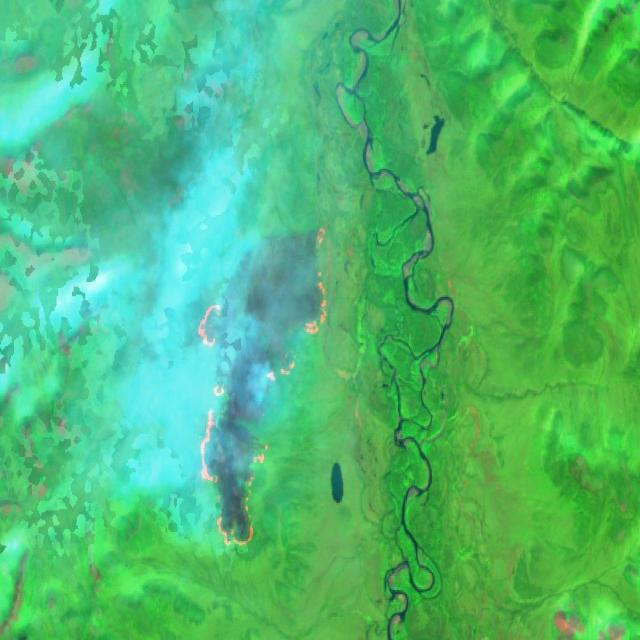fire: (180, 215, 332, 551)
